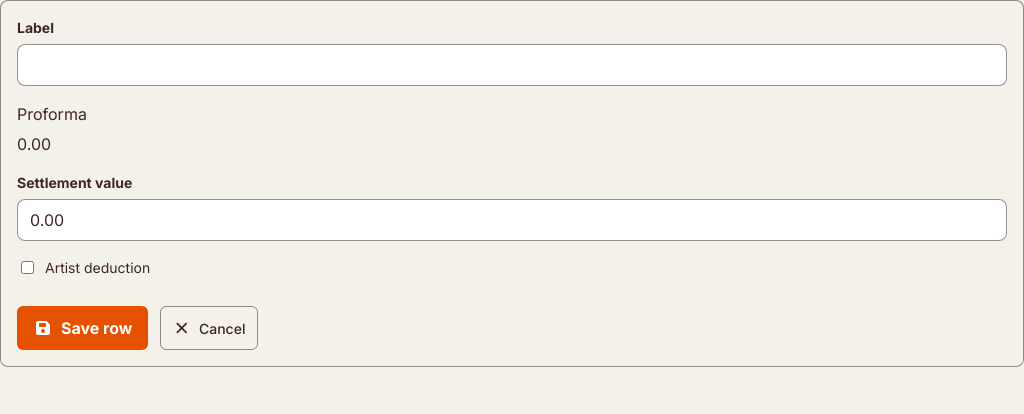
Test: AddLineItemForm › requires settlement value when budget is locked
This screenshot has width=1024, height=414.
Type "Late rental" into the field with test id "add-line-item-label" at (512, 65), box 17,44 -> 1007,86
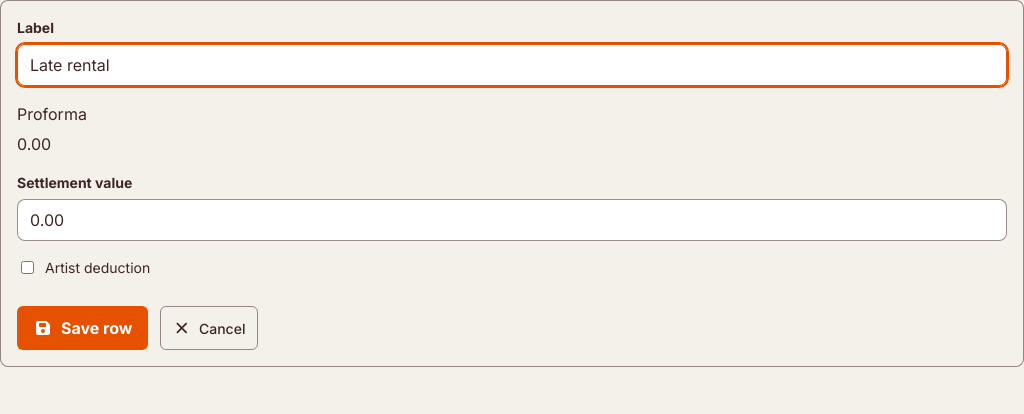
Click the button with test id "add-line-item-submit" at (83, 328), box 17,306 -> 148,350
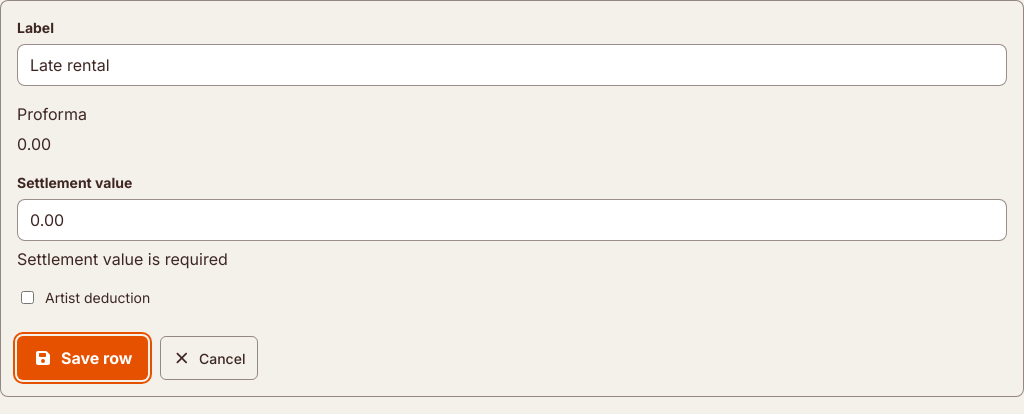
Expected: the text with test id "add-line-item-proforma-readonly" reads "0.00", 17,134 -> 51,154
Now the message reads "Settlement value is required", box 17,249 -> 228,269
